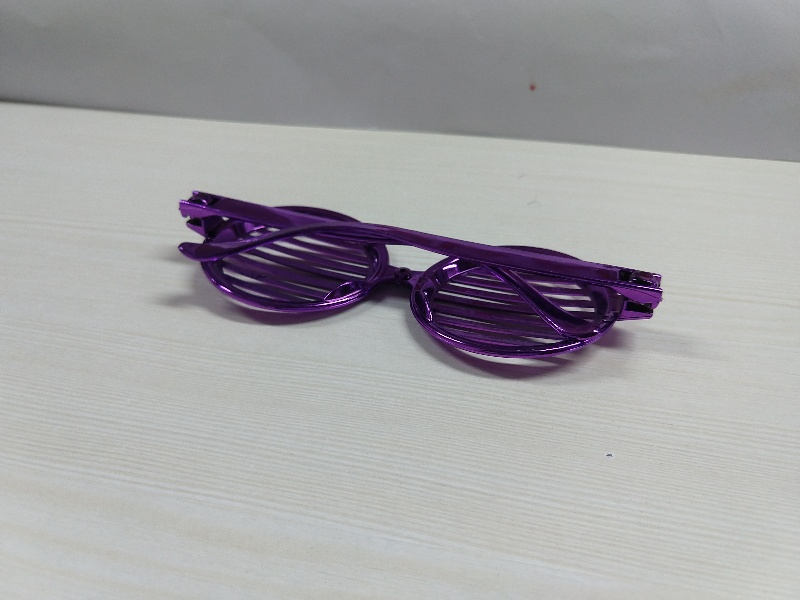shades: (175, 184, 667, 374)
